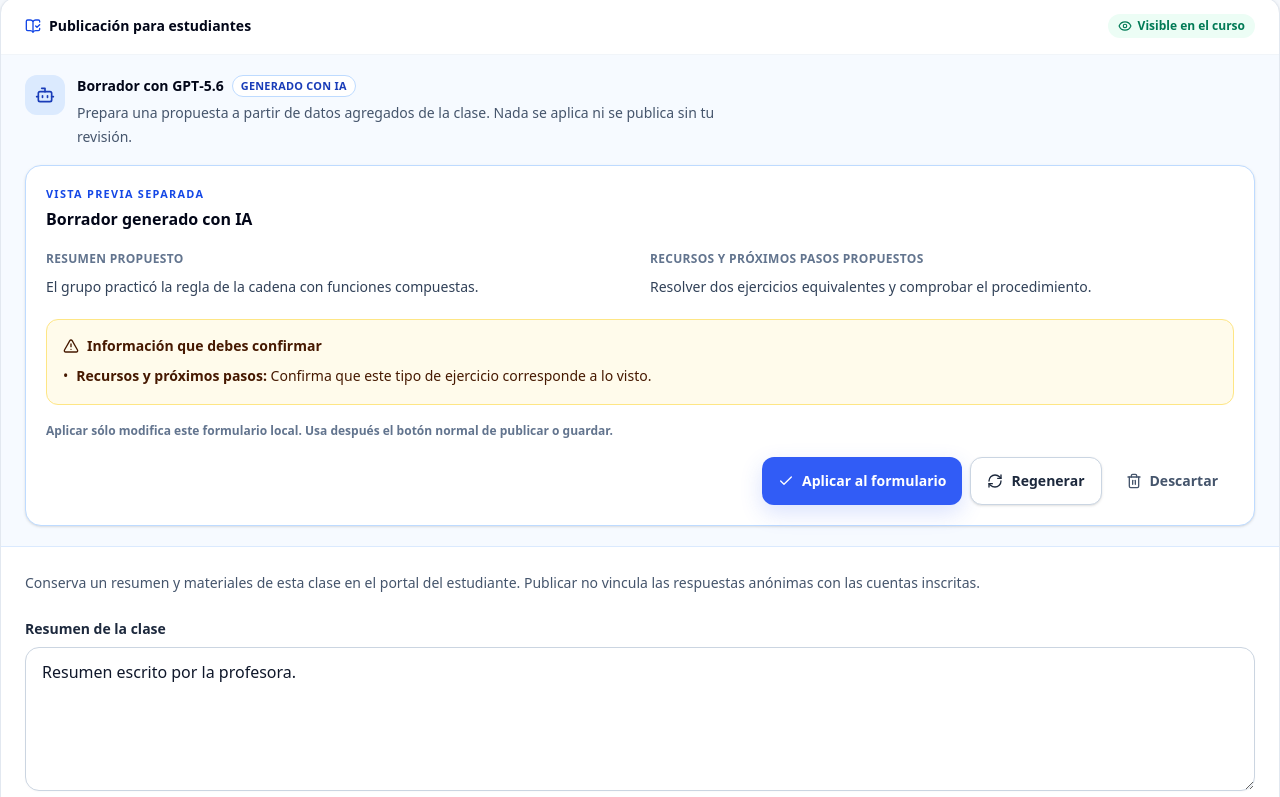
Test case: SessionPublicationPanel AI draft › descartar oculta sólo la propuesta y conserva el formulario
What coordinates should you click on to do the following:
click the button "Descartar"
I would click on:
 (1172, 481)
Its box is [1110,457,1234,505].
(page scrolled)
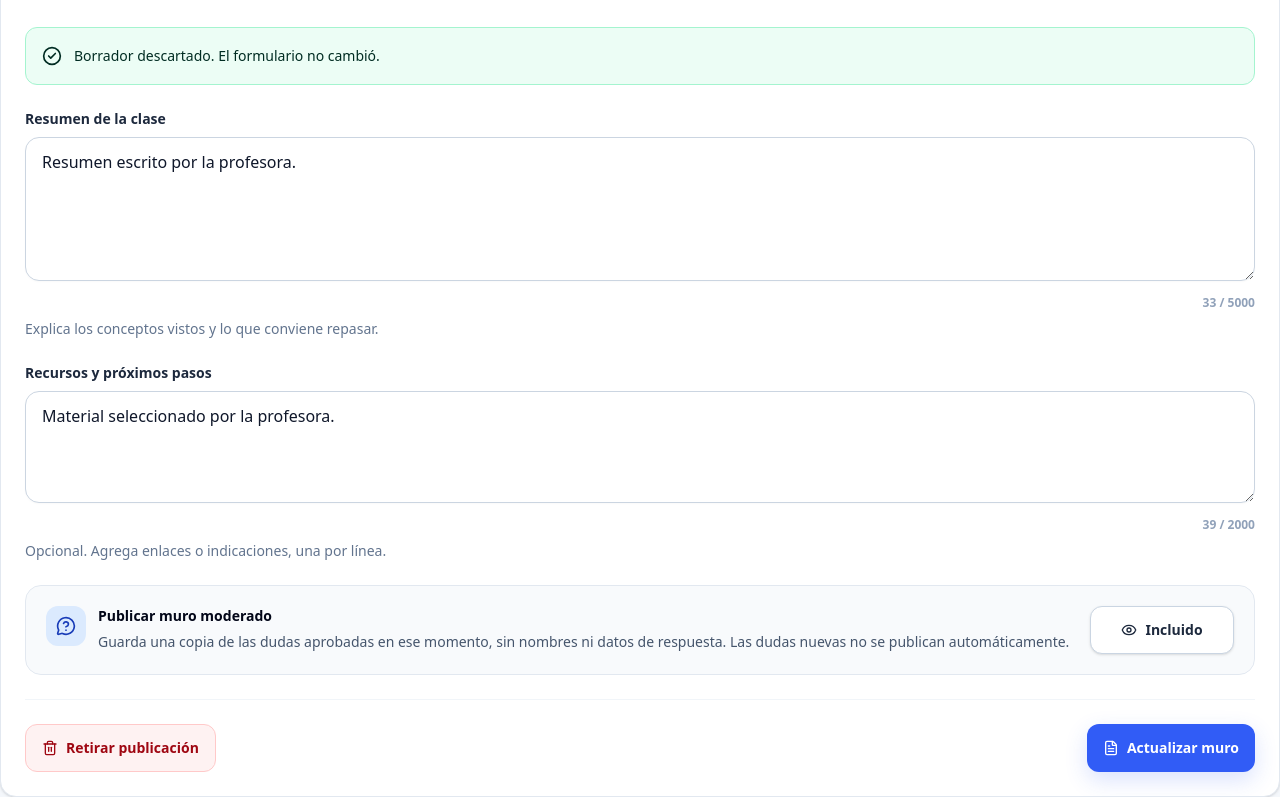
Expected: the text box labelled "Resumen de la clase" holds "Resumen escrito por la profesora.", [25,137,1255,281]
Result: the heading "Borrador generado con IA" is gone
